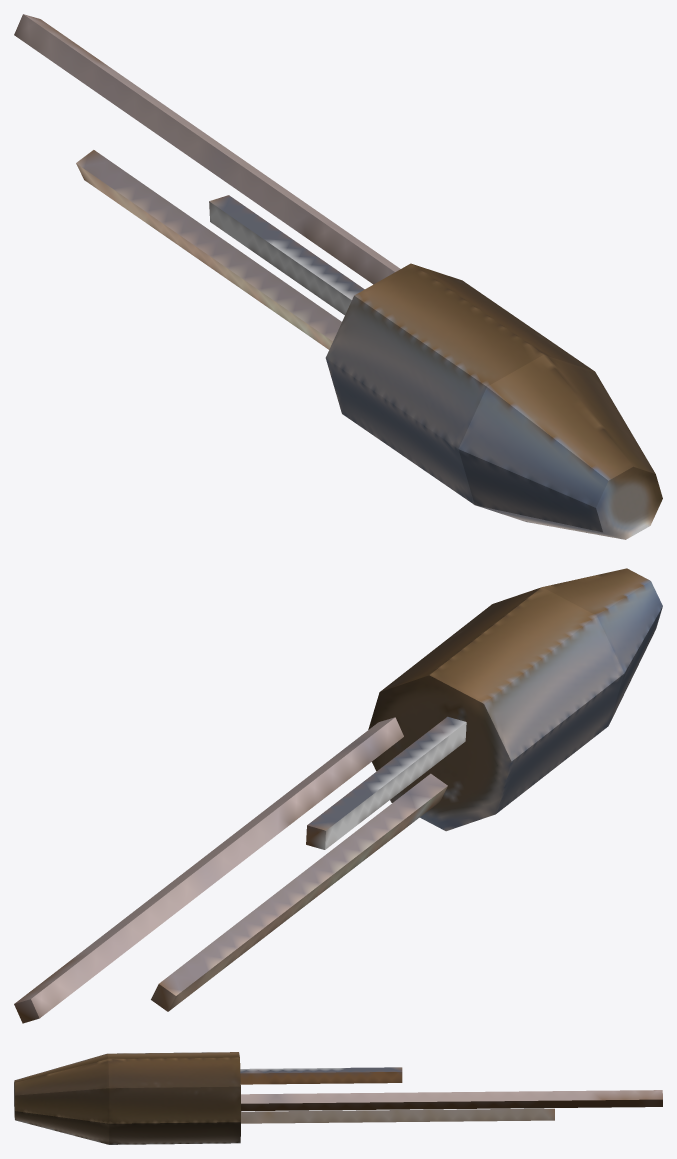
3 renders of one model, top to bottom at view 1: azimuth 30°, elevation 25°; view 2: azimuth 150°, elevation 25°; view 3: azimuth 270°, elevation 25°, orthographic. The views are drawn at different scales.
Visible parts, largest first — view 1: Bala_Cylinder.003, Estela_1_Cube.006, Estela_3_Cube.008, Estela_2_Cube.007; view 2: Bala_Cylinder.003, Estela_1_Cube.006, Estela_3_Cube.008, Estela_2_Cube.007; view 3: Bala_Cylinder.003, Estela_1_Cube.006, Estela_3_Cube.008, Estela_2_Cube.007.
Part boxes in pixels (x1,y1,x2,y2): Bala_Cylinder.003: [325, 263, 662, 539]; Estela_1_Cube.006: [14, 14, 400, 284]; Estela_3_Cube.008: [76, 150, 341, 349]; Estela_2_Cube.007: [209, 195, 364, 315]; Bala_Cylinder.003: [368, 568, 662, 831]; Estela_1_Cube.006: [14, 717, 403, 1023]; Estela_3_Cube.008: [151, 773, 447, 1011]; Estela_2_Cube.007: [306, 716, 466, 849]; Bala_Cylinder.003: [14, 1052, 240, 1144]; Estela_1_Cube.006: [241, 1090, 662, 1111]; Estela_3_Cube.008: [241, 1108, 554, 1123]; Estela_2_Cube.007: [240, 1067, 402, 1084].
Size of what is drawn, in the model's own units: 0.2896 by 0.2788 by 1.94.
